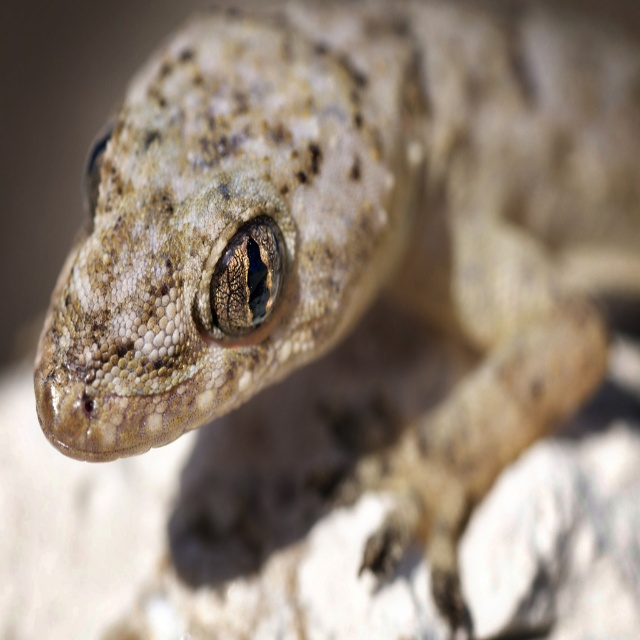Lizard: (0, 14, 640, 640)
